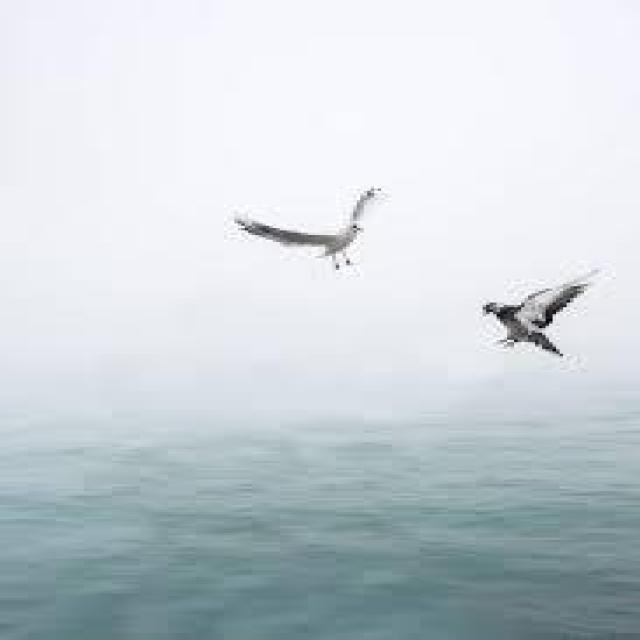bird: (223, 184, 390, 271), (473, 262, 610, 361)
